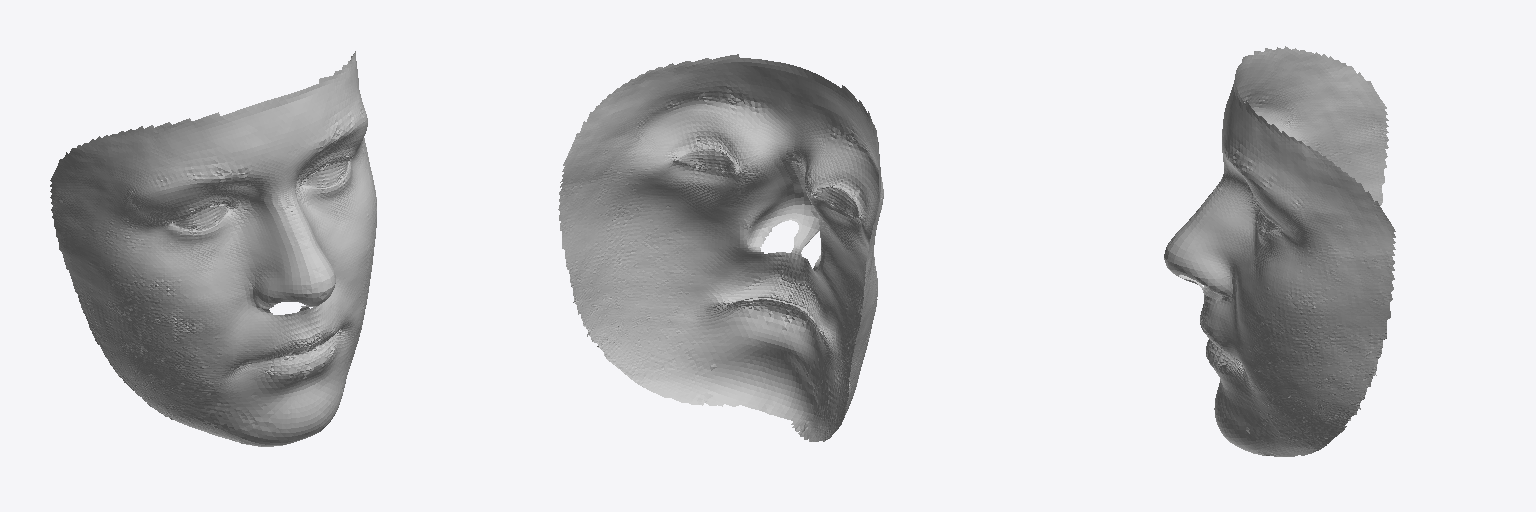
The model's file is 001_01_01_face_valid_view3.obj.
3 views of the same model, side by side, from view 1: azimuth 30°, elevation 25°; view 2: azimuth 150°, elevation 25°; view 3: azimuth 270°, elevation 25° (orthographic).
Size of the model in its own units: 166 by 186 by 110.